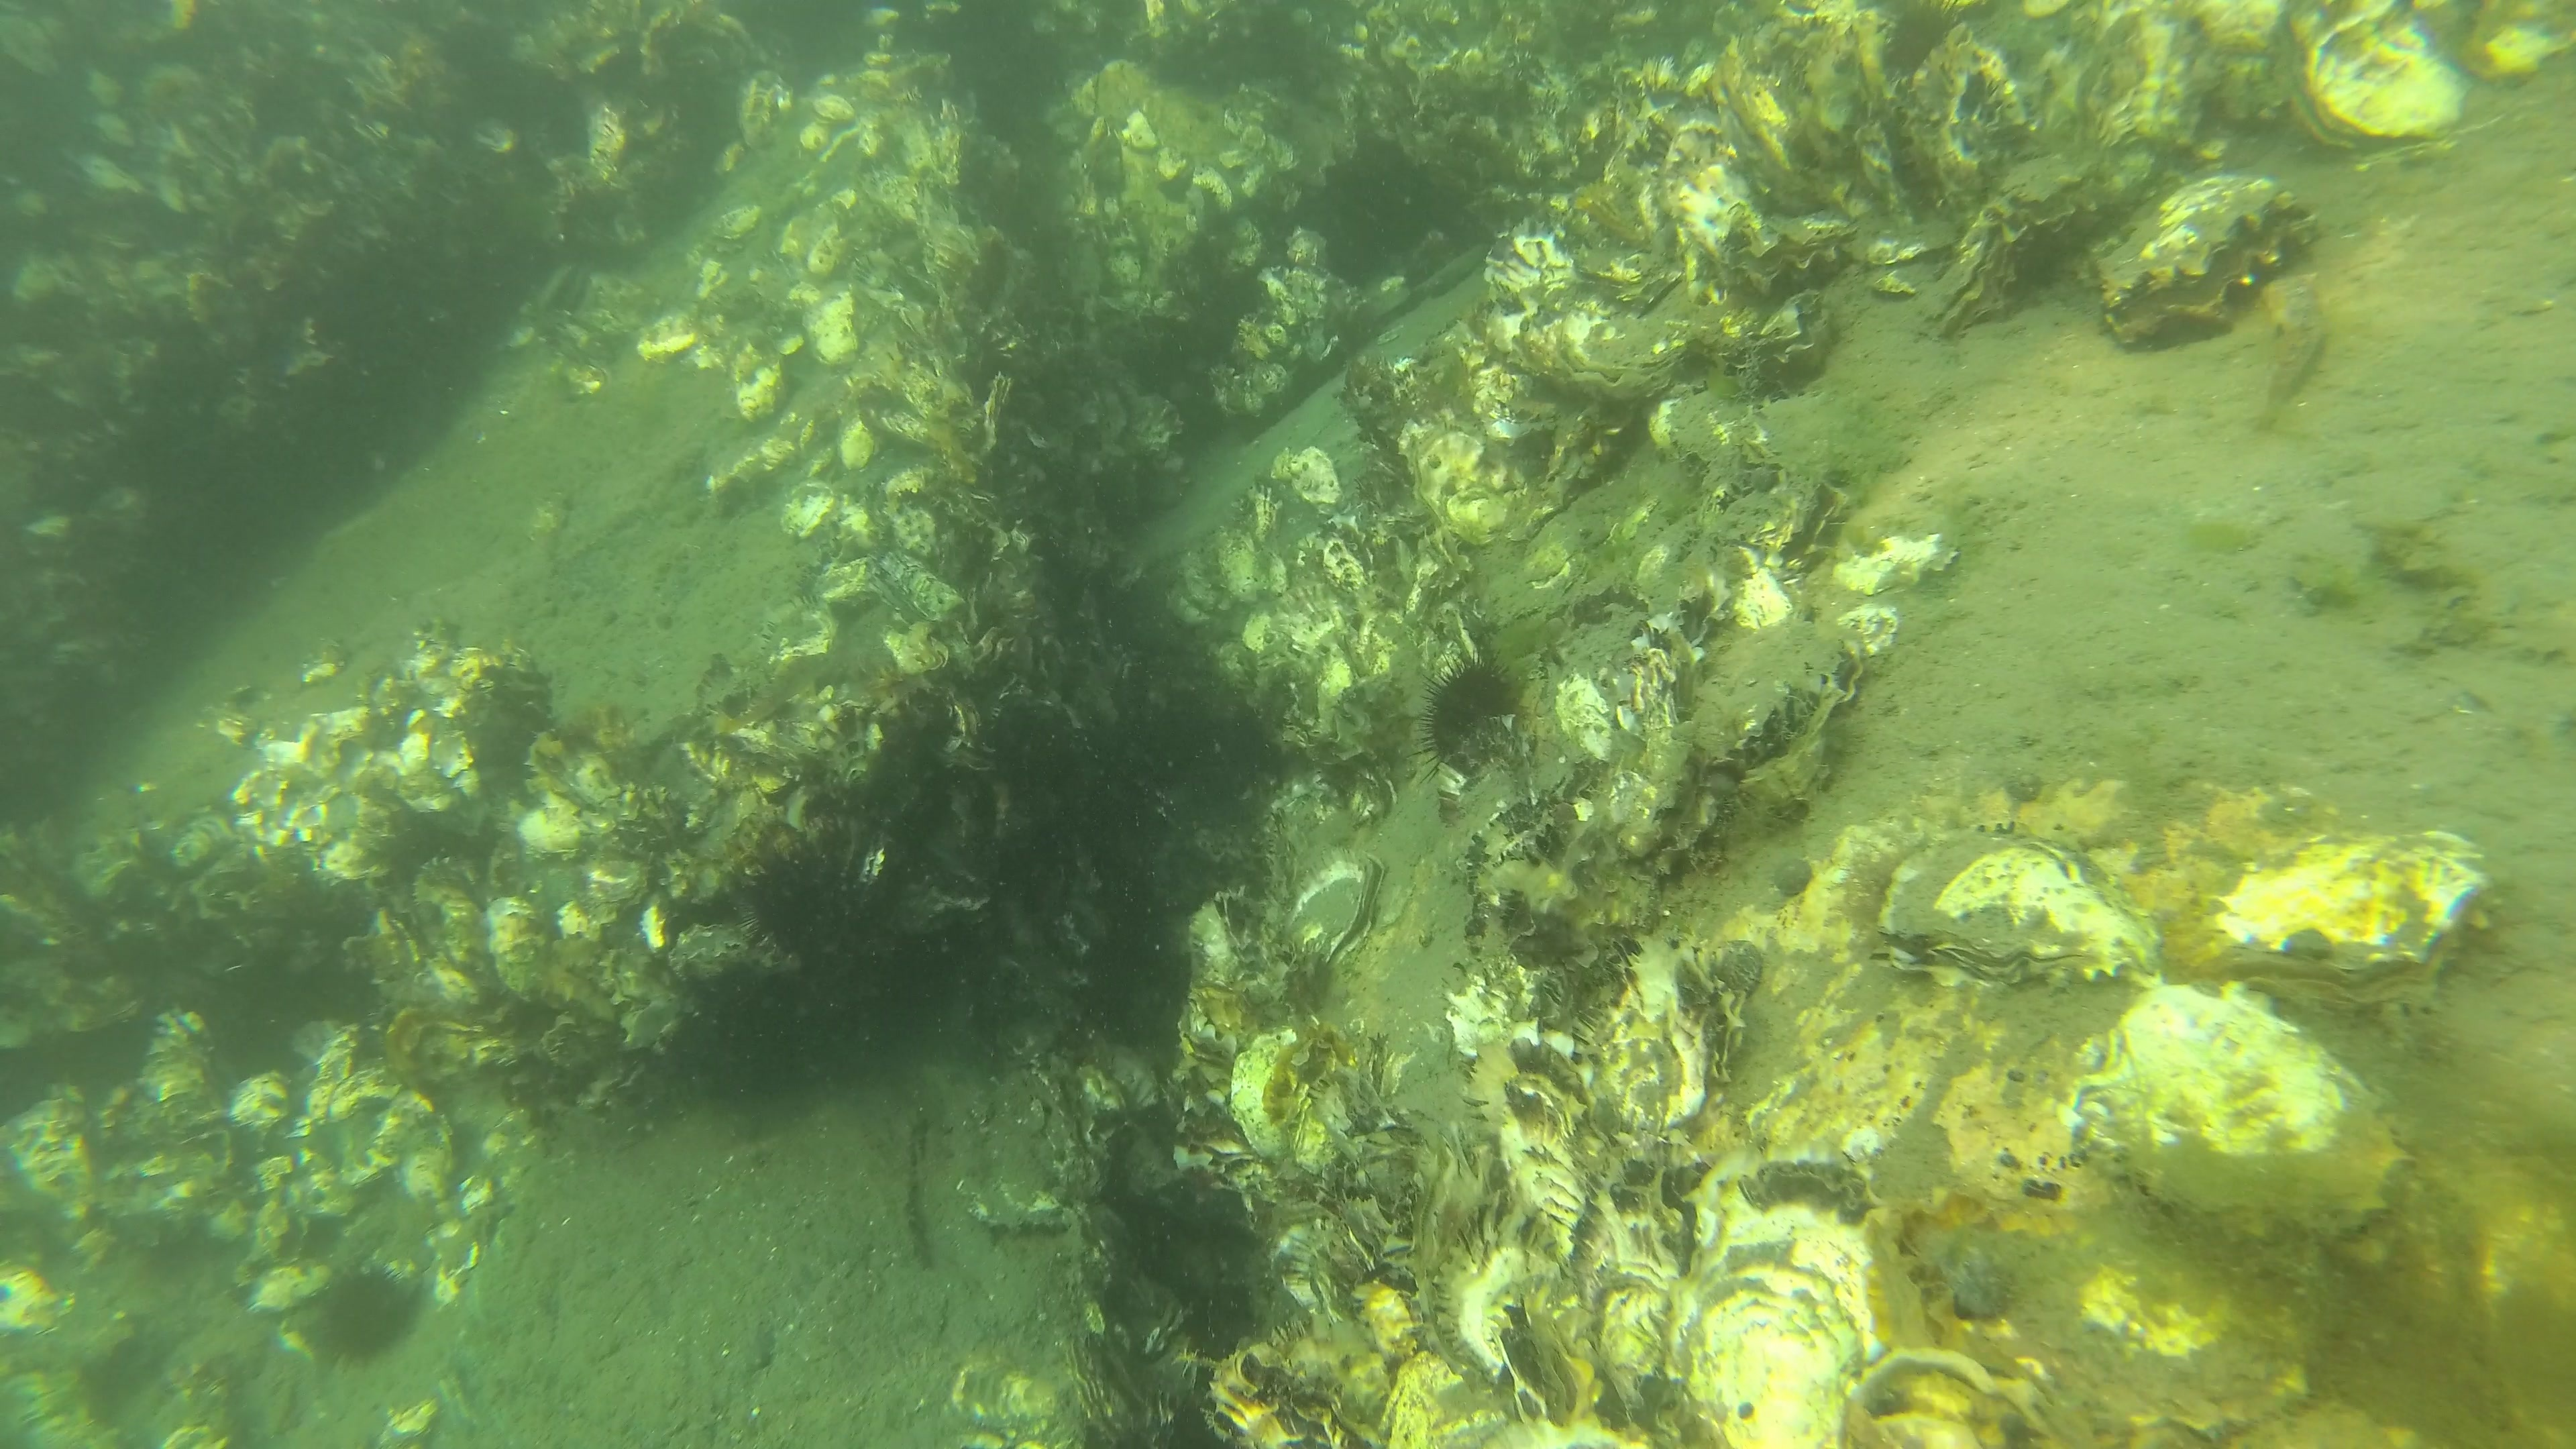echinus: (1417, 648, 1529, 777), (311, 1265, 421, 1368)
